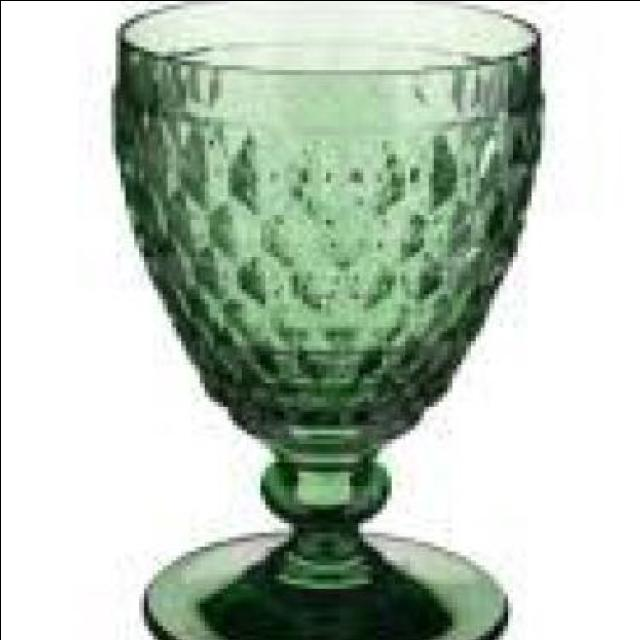kaca: (115, 0, 544, 640)
